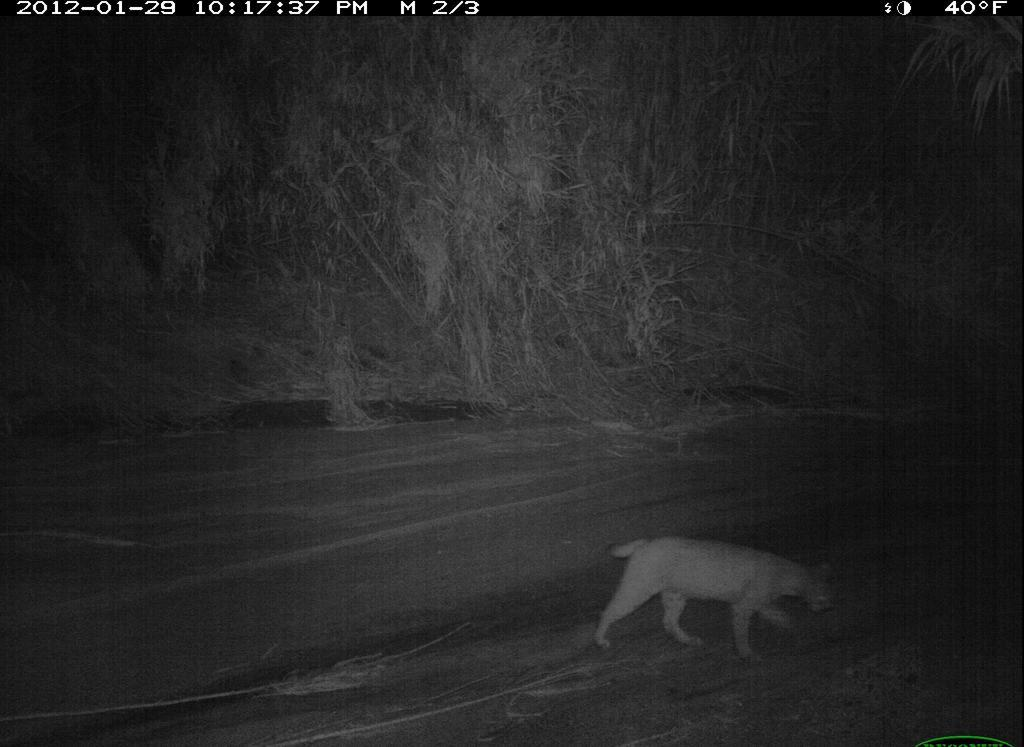bobcat: (575, 521, 858, 675)
